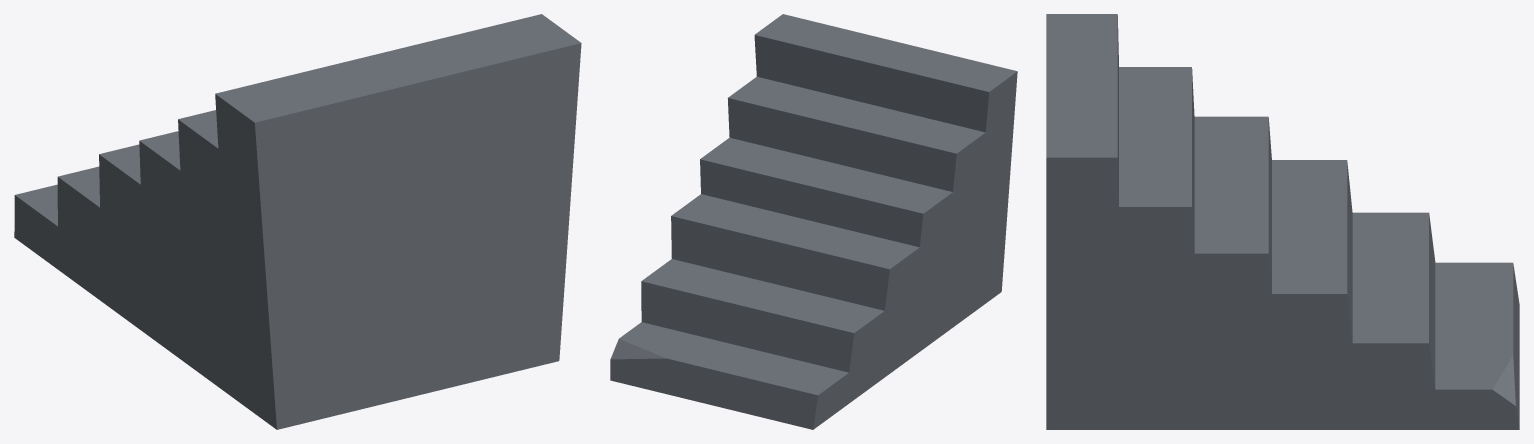
File: SM_Prop_Stairs_Stone_02.glb
3 views of the same model, side by side, from view 1: azimuth 30°, elevation 25°; view 2: azimuth 150°, elevation 25°; view 3: azimuth 270°, elevation 25° (orthographic). The views are drawn at different scales.
Parts seen in each view (by area): view 1: SM_Prop_Stairs_Stone_02; view 2: SM_Prop_Stairs_Stone_02; view 3: SM_Prop_Stairs_Stone_02.
Boxes of the visible parts, x1,y1,x2,y2 form: SM_Prop_Stairs_Stone_02: (14,14,581,429); SM_Prop_Stairs_Stone_02: (610,14,1017,429); SM_Prop_Stairs_Stone_02: (1046,14,1519,429).
Size of the model in its own units: 0.5242 by 0.4794 by 0.7297.
1 material, 1 textured.
